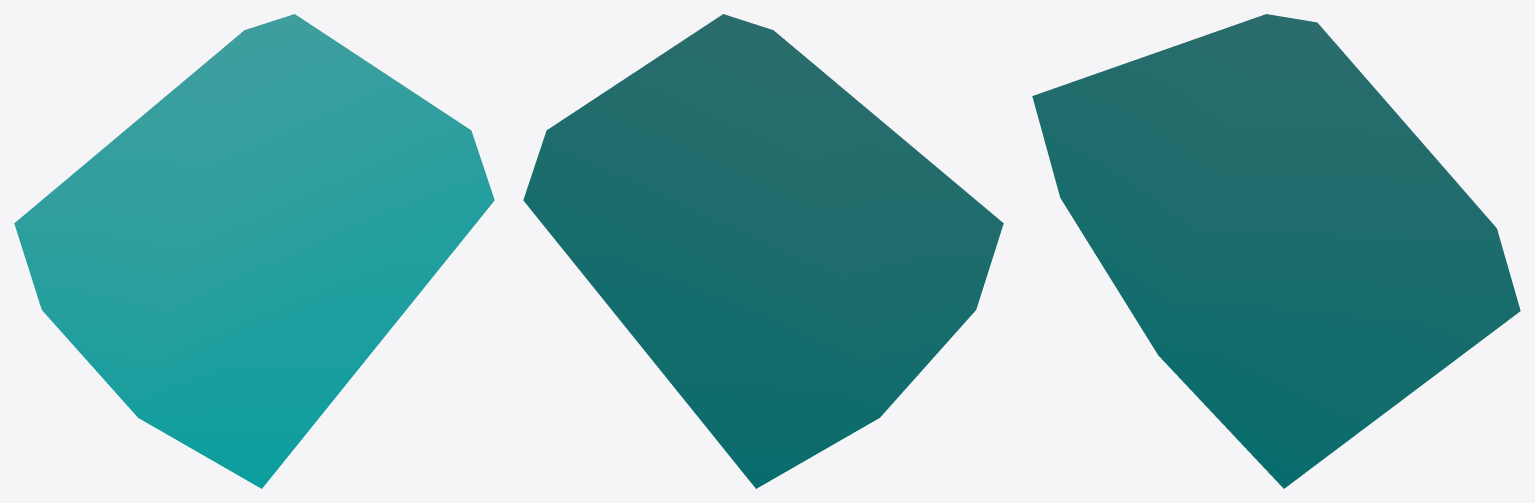
File: xefmcgrqx_VarC_LOD3.fbx
3 renders of one model, left to right at view 1: azimuth 30°, elevation 25°; view 2: azimuth 150°, elevation 25°; view 3: azimuth 330°, elevation 25°, orthographic.
Parts seen in each view (by area): view 1: _b8ga_VarC_LOD6; view 2: _b8ga_VarC_LOD6; view 3: _b8ga_VarC_LOD6.
Boxes of the visible parts, bbox=[...] form: _b8ga_VarC_LOD6: bbox=[14, 14, 494, 488]; _b8ga_VarC_LOD6: bbox=[523, 14, 1003, 488]; _b8ga_VarC_LOD6: bbox=[1032, 14, 1520, 488].
Size of the model in its own units: 48.58 by 45.11 by 0.
